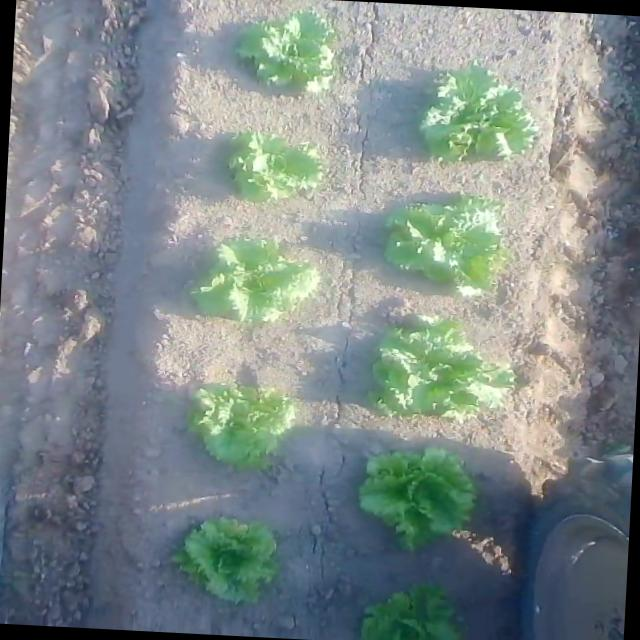Lettuce-Ready-to-Harvest: (178, 236, 326, 336), (416, 55, 550, 162), (350, 456, 488, 551), (182, 384, 308, 474)
